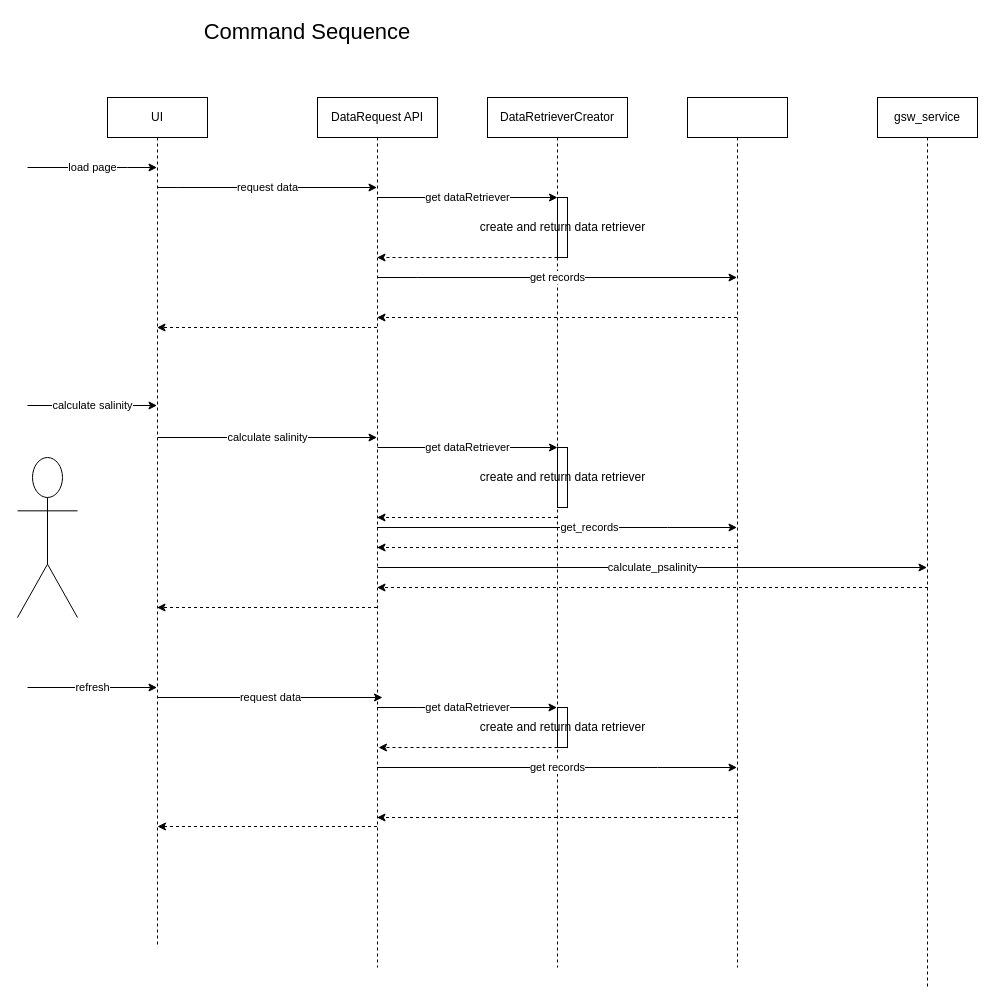
This 995x1005 diagram has some shape labels left out. The box of each missing label's shape, as (x1, y1, x2, y2) in pixels:
Actor: (16, 456, 78, 618)
DataRetriever: (686, 96, 788, 968)
